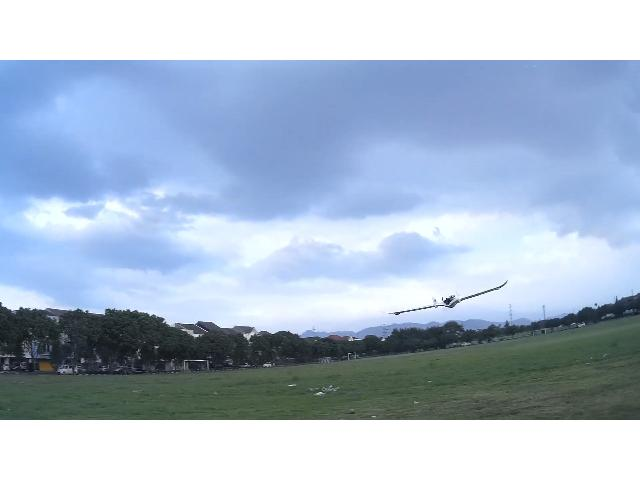Anti-Drone: (380, 280, 508, 316)
